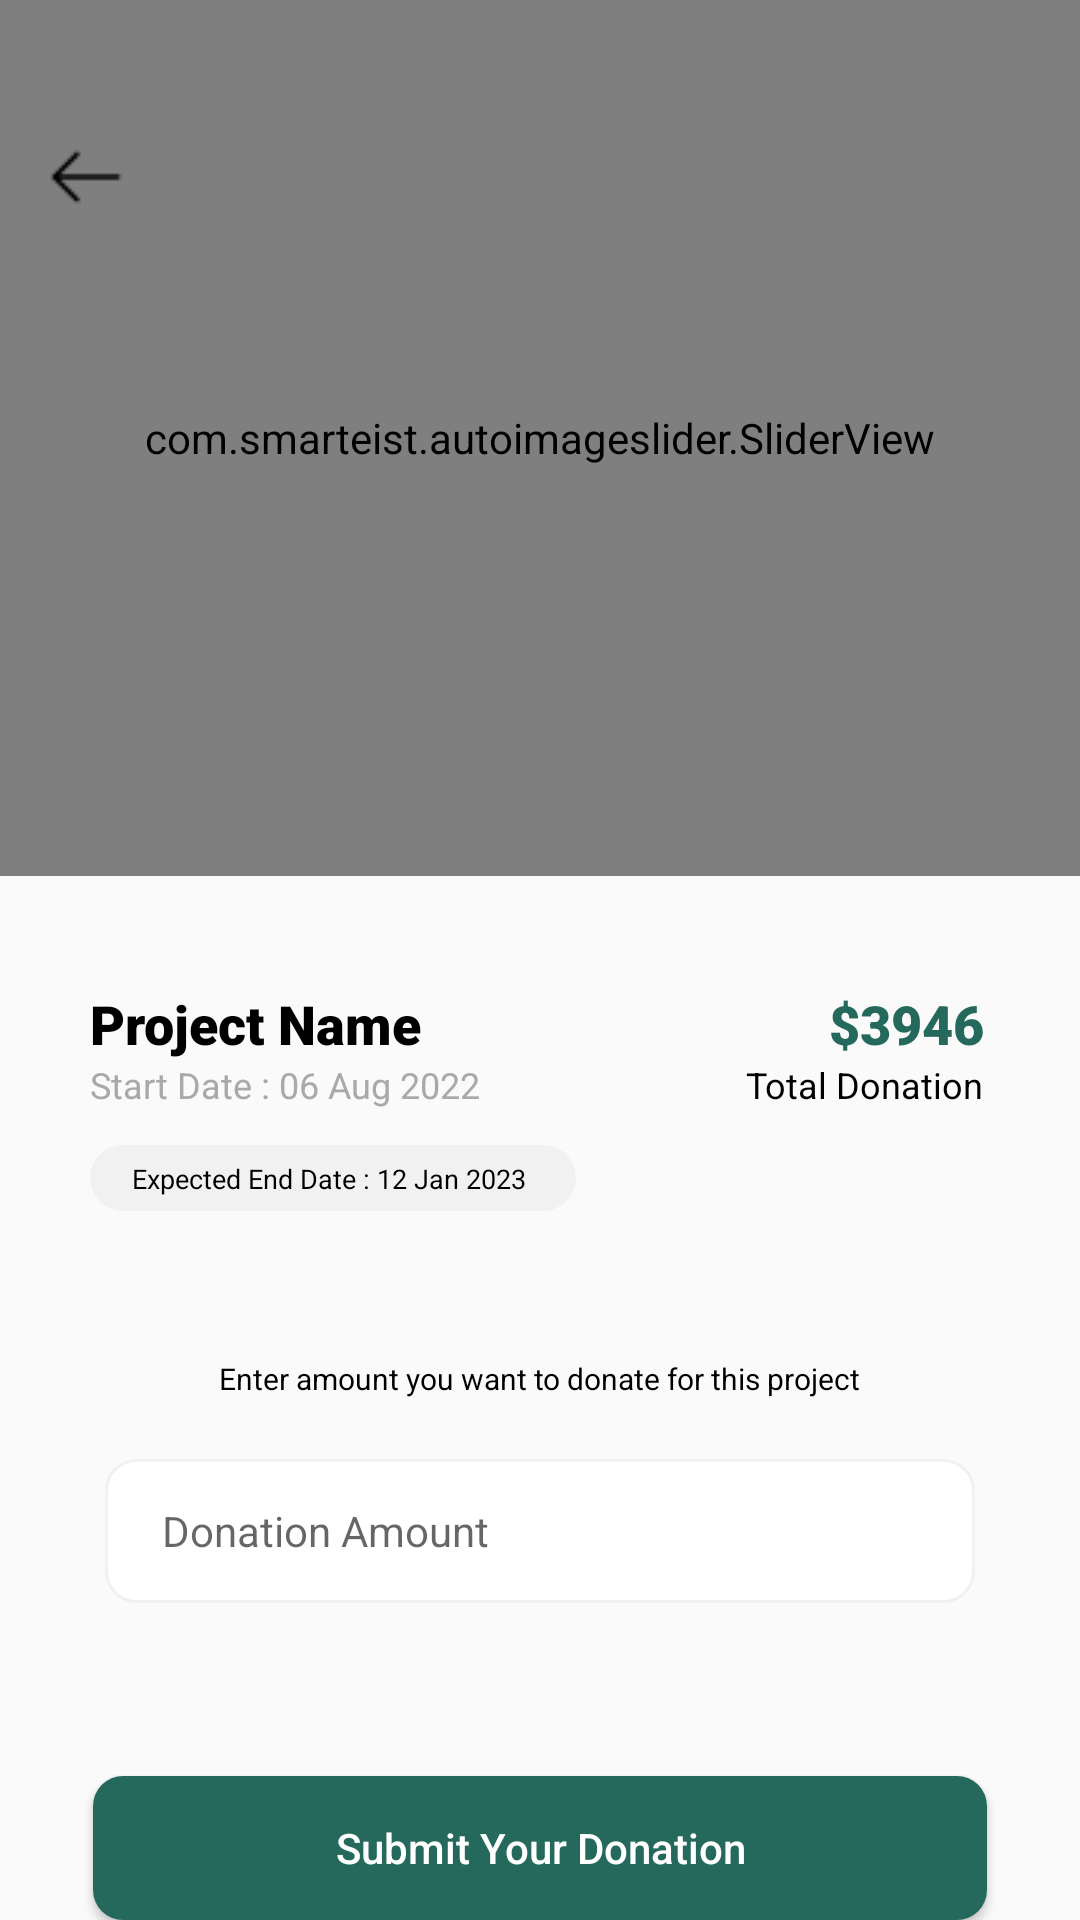

Icons on this 1080w x 1920h Android screen, each with its box as {"left": x1, "top": y1, "right": x2, "bottom": y2}:
go back botton: {"left": 52, "top": 152, "right": 120, "bottom": 202}
